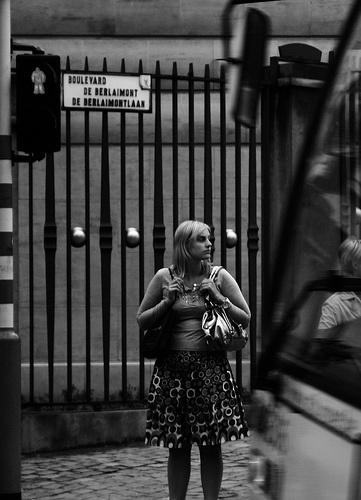head: (174, 221, 213, 260), (336, 231, 361, 279)
person: (138, 215, 249, 500), (315, 233, 360, 361)
